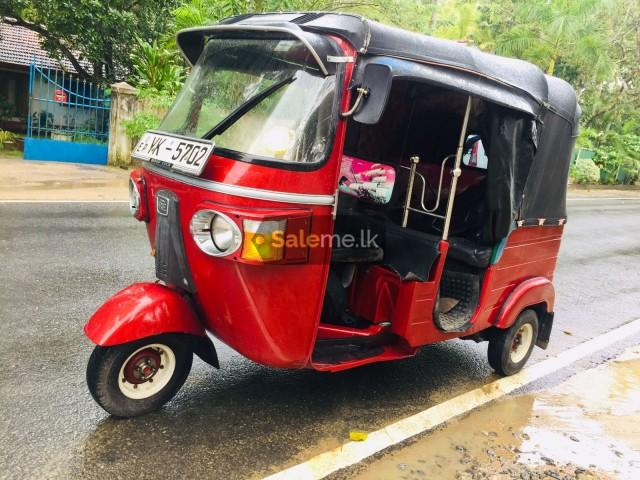threewheel: (82, 10, 582, 420)
